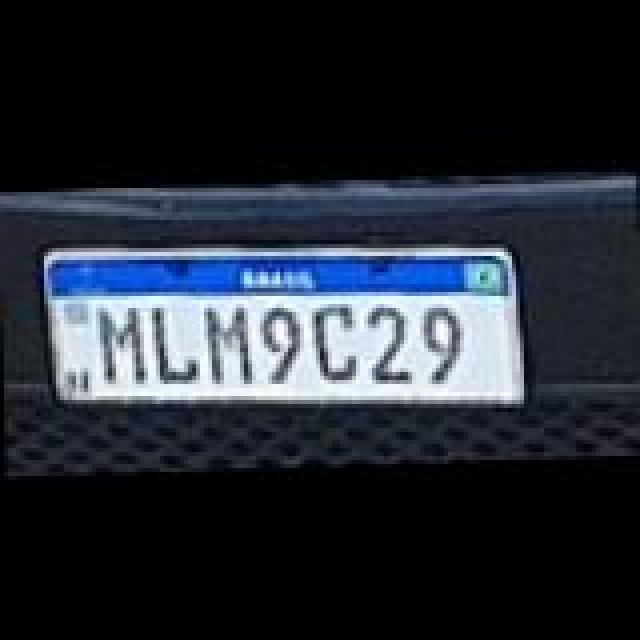2: (364, 302, 412, 382)
9: (256, 304, 304, 380), (418, 300, 462, 380)
C: (308, 300, 356, 380)
L: (152, 304, 200, 380)
M: (202, 300, 254, 380), (96, 298, 144, 378)
